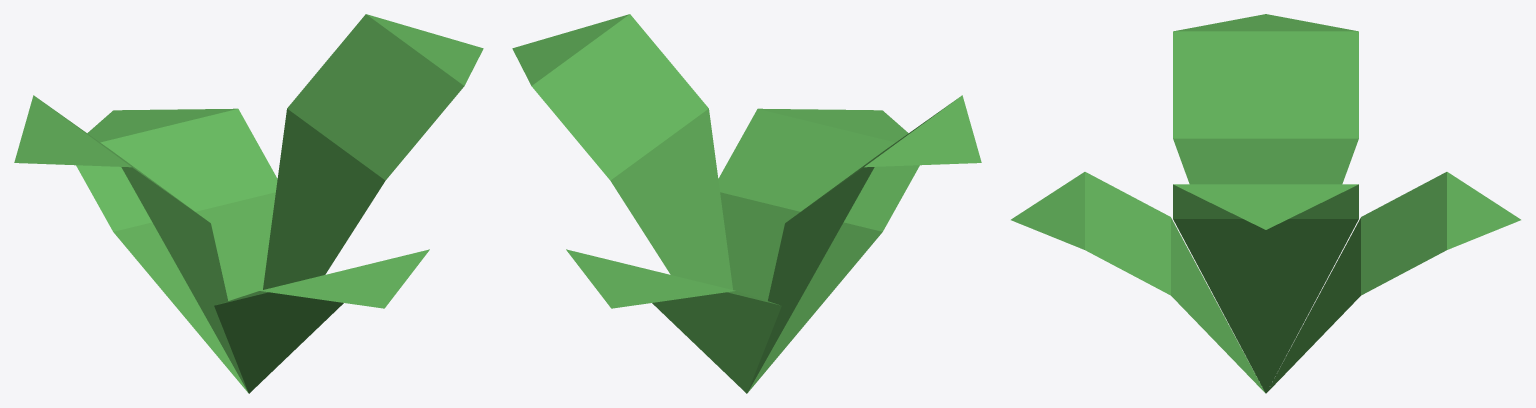
The model's file is plant_bush.glb.
3 views of the same model, side by side, from view 1: azimuth 30°, elevation 25°; view 2: azimuth 150°, elevation 25°; view 3: azimuth 270°, elevation 25° (orthographic). The views are drawn at different scales.
Visible parts, largest first — view 1: plant_bush; view 2: plant_bush; view 3: plant_bush.
Boxes of the visible parts, x1,y1,x2,y2 form: plant_bush: (14,14,483,393); plant_bush: (512,14,981,393); plant_bush: (1011,14,1520,393).
Size of the model in its own units: 0.396 by 0.2444 by 0.396.
